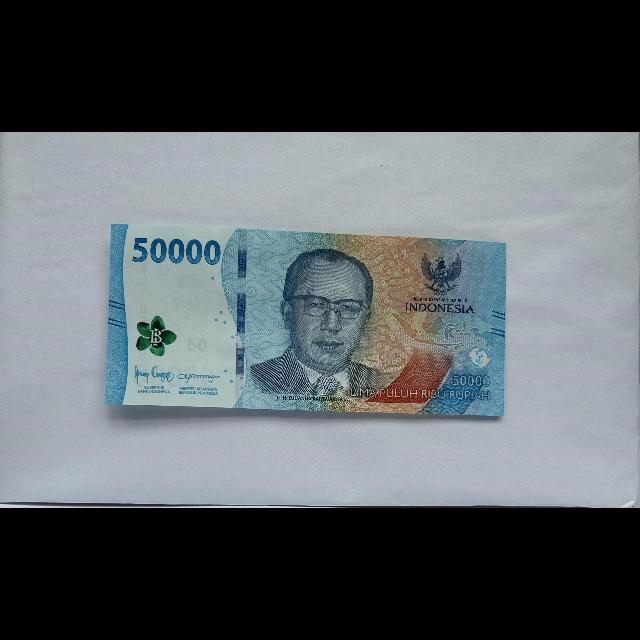Asli-50k: (100, 221, 514, 425)
Tinta-Asli-50k: (136, 313, 178, 357)
